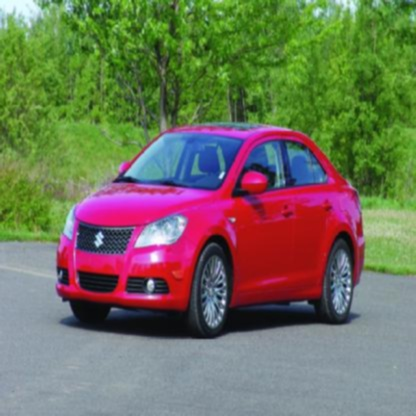Vehicle: (58, 124, 365, 328)
